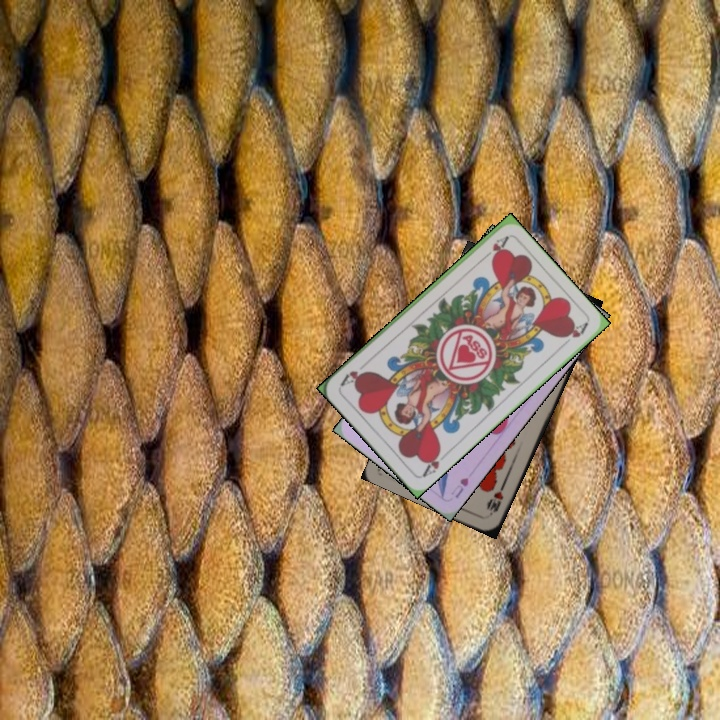H10: (483, 480, 508, 518)
HA: (477, 232, 511, 264), (418, 444, 444, 480)
HU: (447, 474, 471, 501)
